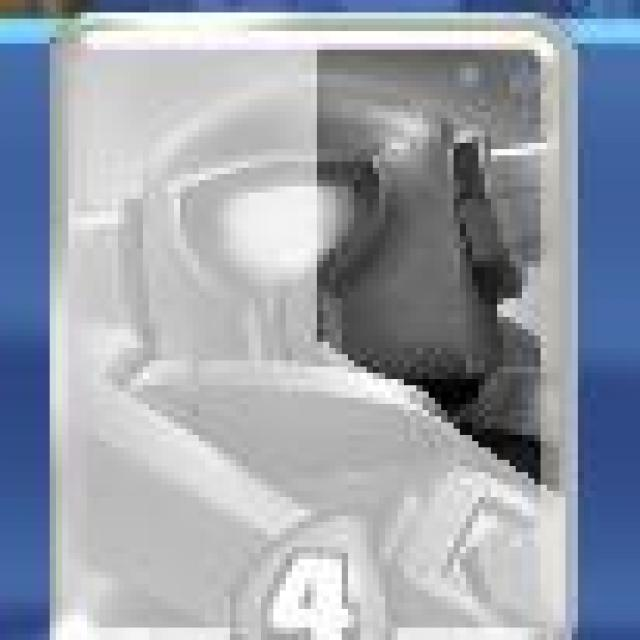Mini_Pekka: (48, 15, 576, 640)
